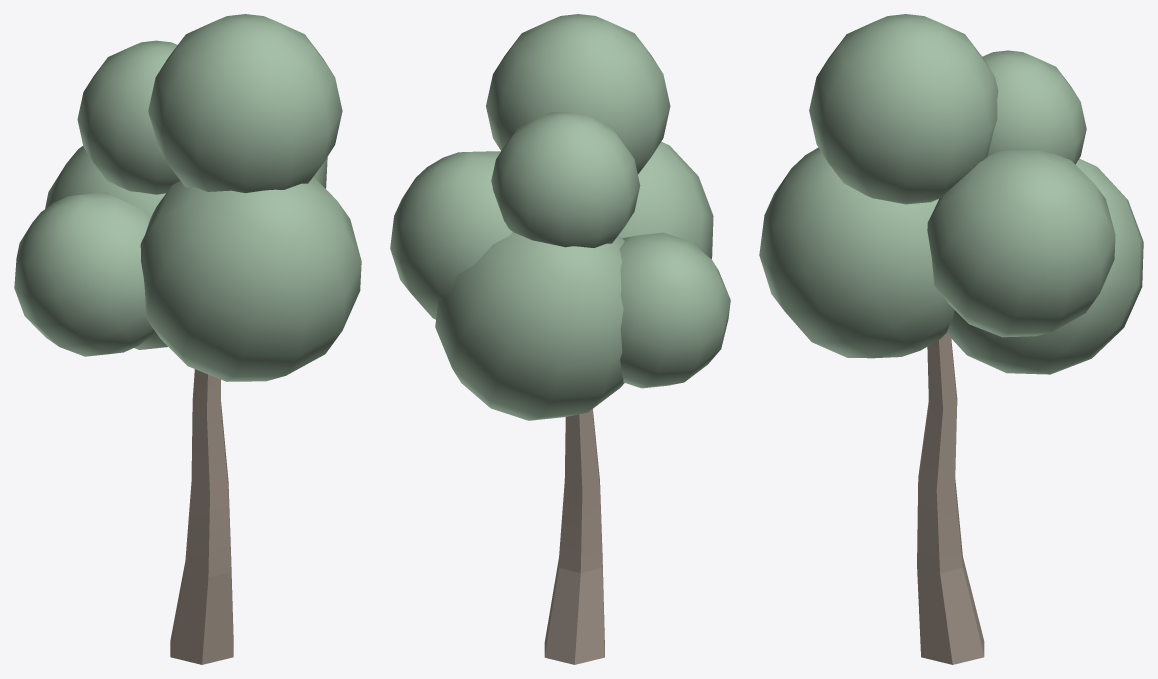
The model's file is Tree.fbx.
The picture shows the model from 3 angles, left to right: view 1: azimuth 30°, elevation 25°; view 2: azimuth 150°, elevation 25°; view 3: azimuth 270°, elevation 25°; orthographic projection. The views are drawn at different scales.
Parts seen in each view (by area): view 1: pCylinder2; view 2: pCylinder2; view 3: pCylinder2.
Part boxes in pixels (x1,y1,x2,y2): pCylinder2: [14, 14, 361, 664]; pCylinder2: [390, 14, 730, 664]; pCylinder2: [759, 14, 1143, 664].
Size of the model in its own units: 2.39 by 4.66 by 2.55.
